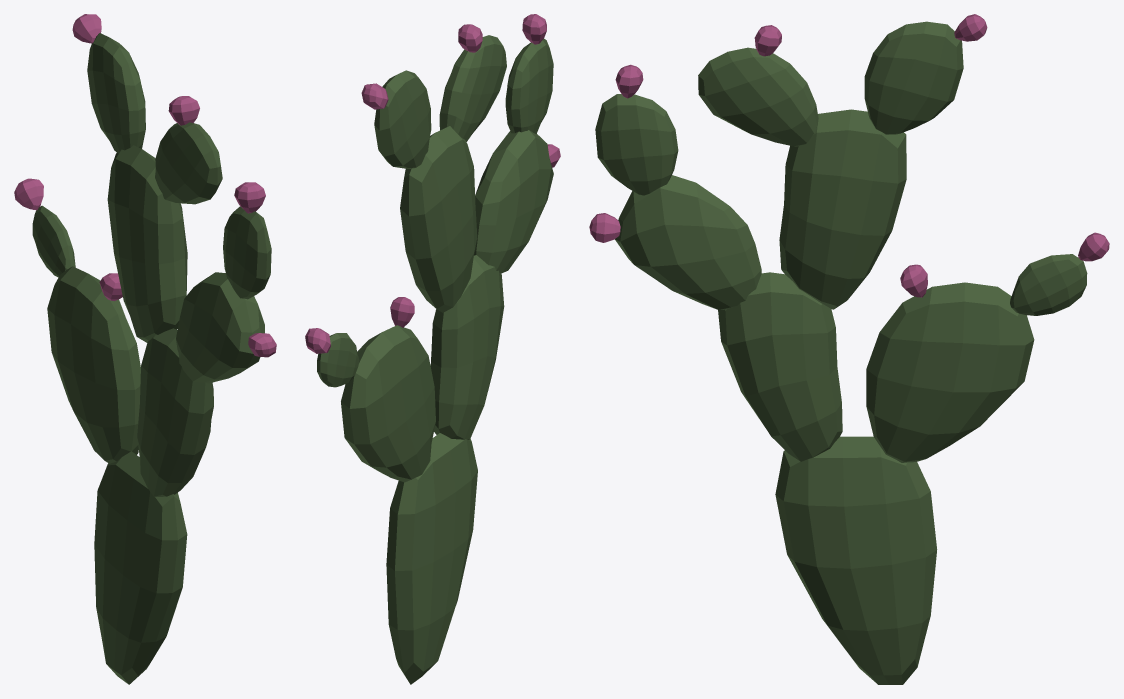
File: CactusFlowers_4.gltf
3 views of the same model, side by side, from view 1: azimuth 30°, elevation 25°; view 2: azimuth 150°, elevation 25°; view 3: azimuth 270°, elevation 25° (orthographic). The views are drawn at different scales.
Parts seen in each view (by area): view 1: CactusFlowers_4; view 2: CactusFlowers_4; view 3: CactusFlowers_4.
Boxes of the visible parts, <box> form: CactusFlowers_4: <box>14,14,276,684</box>; CactusFlowers_4: <box>305,14,560,684</box>; CactusFlowers_4: <box>589,14,1109,684</box>.
Size of the model in its own units: 0.11 by 1.38 by 0.972.
